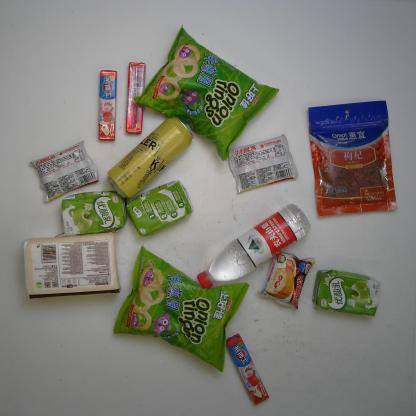Alcohol: (106, 119, 193, 202)
Candy: (225, 332, 269, 407), (126, 58, 148, 134), (97, 68, 117, 142)
Dessert: (30, 139, 100, 204), (229, 136, 297, 193), (260, 250, 313, 310)
Dried Fruit: (304, 99, 401, 221)
Drink: (197, 203, 310, 290)
Milk: (125, 177, 193, 237), (313, 267, 382, 321), (58, 189, 126, 239)
Puffed Food: (130, 25, 278, 159), (111, 244, 249, 374)
Tissue: (21, 230, 121, 299)
